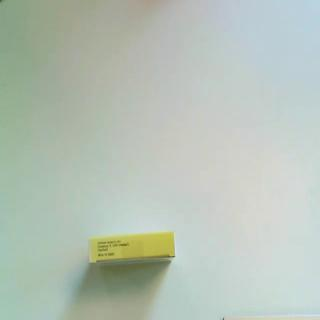buprefarm5ug_hour: (88, 229, 178, 273)
